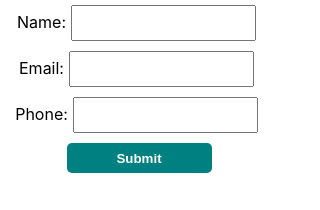
Test: Profile component › empty name, correct email, correct phone
In the field labelled "Email:": (162,69) [69,51,254,87], type "test@example.com"
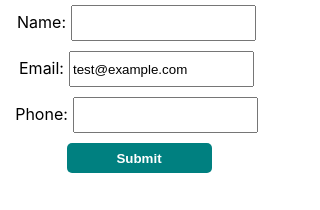
In the field labelled "Phone:": (165,115) [73,97,258,133], type "1234567890"
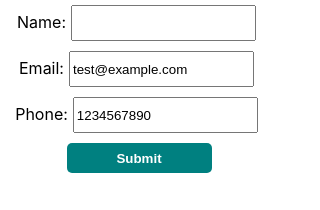
Click the button "Submit": (139,158) [66,143,212,173]
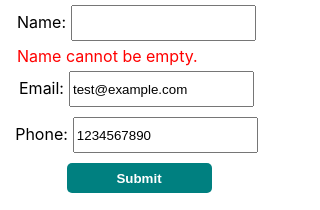
Expected: the text "Name cannot be empty." is shown, [17,46,198,66]
